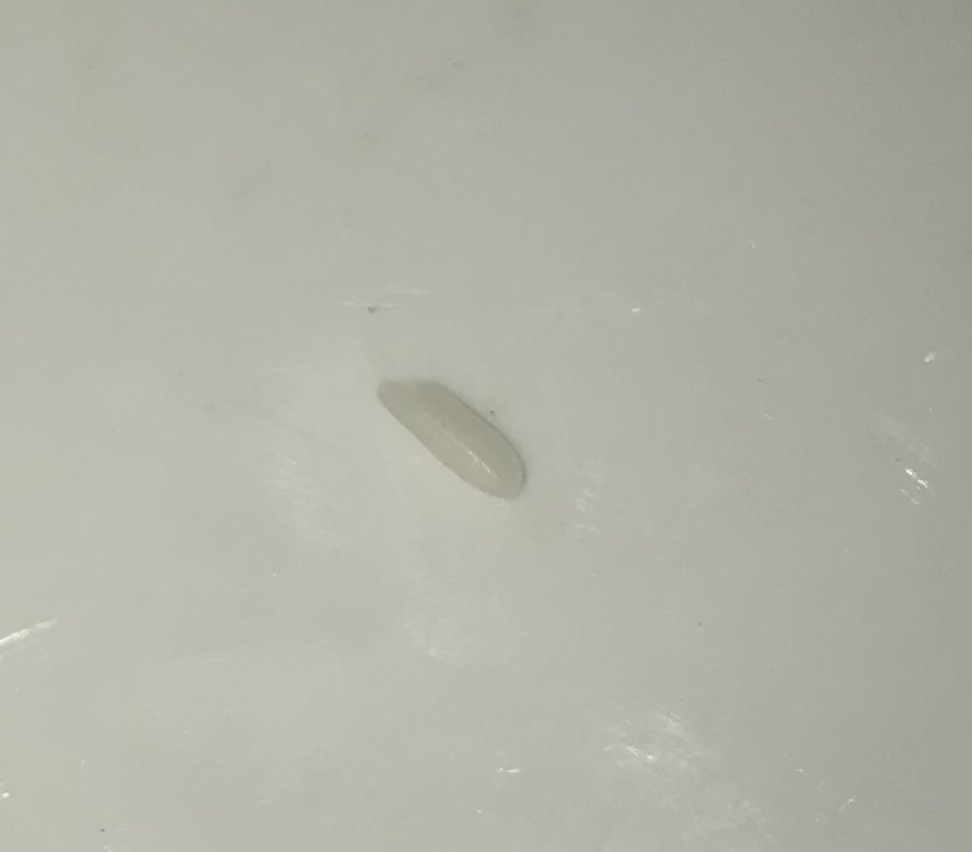Gao Lai Sua: (367, 354, 536, 516)
